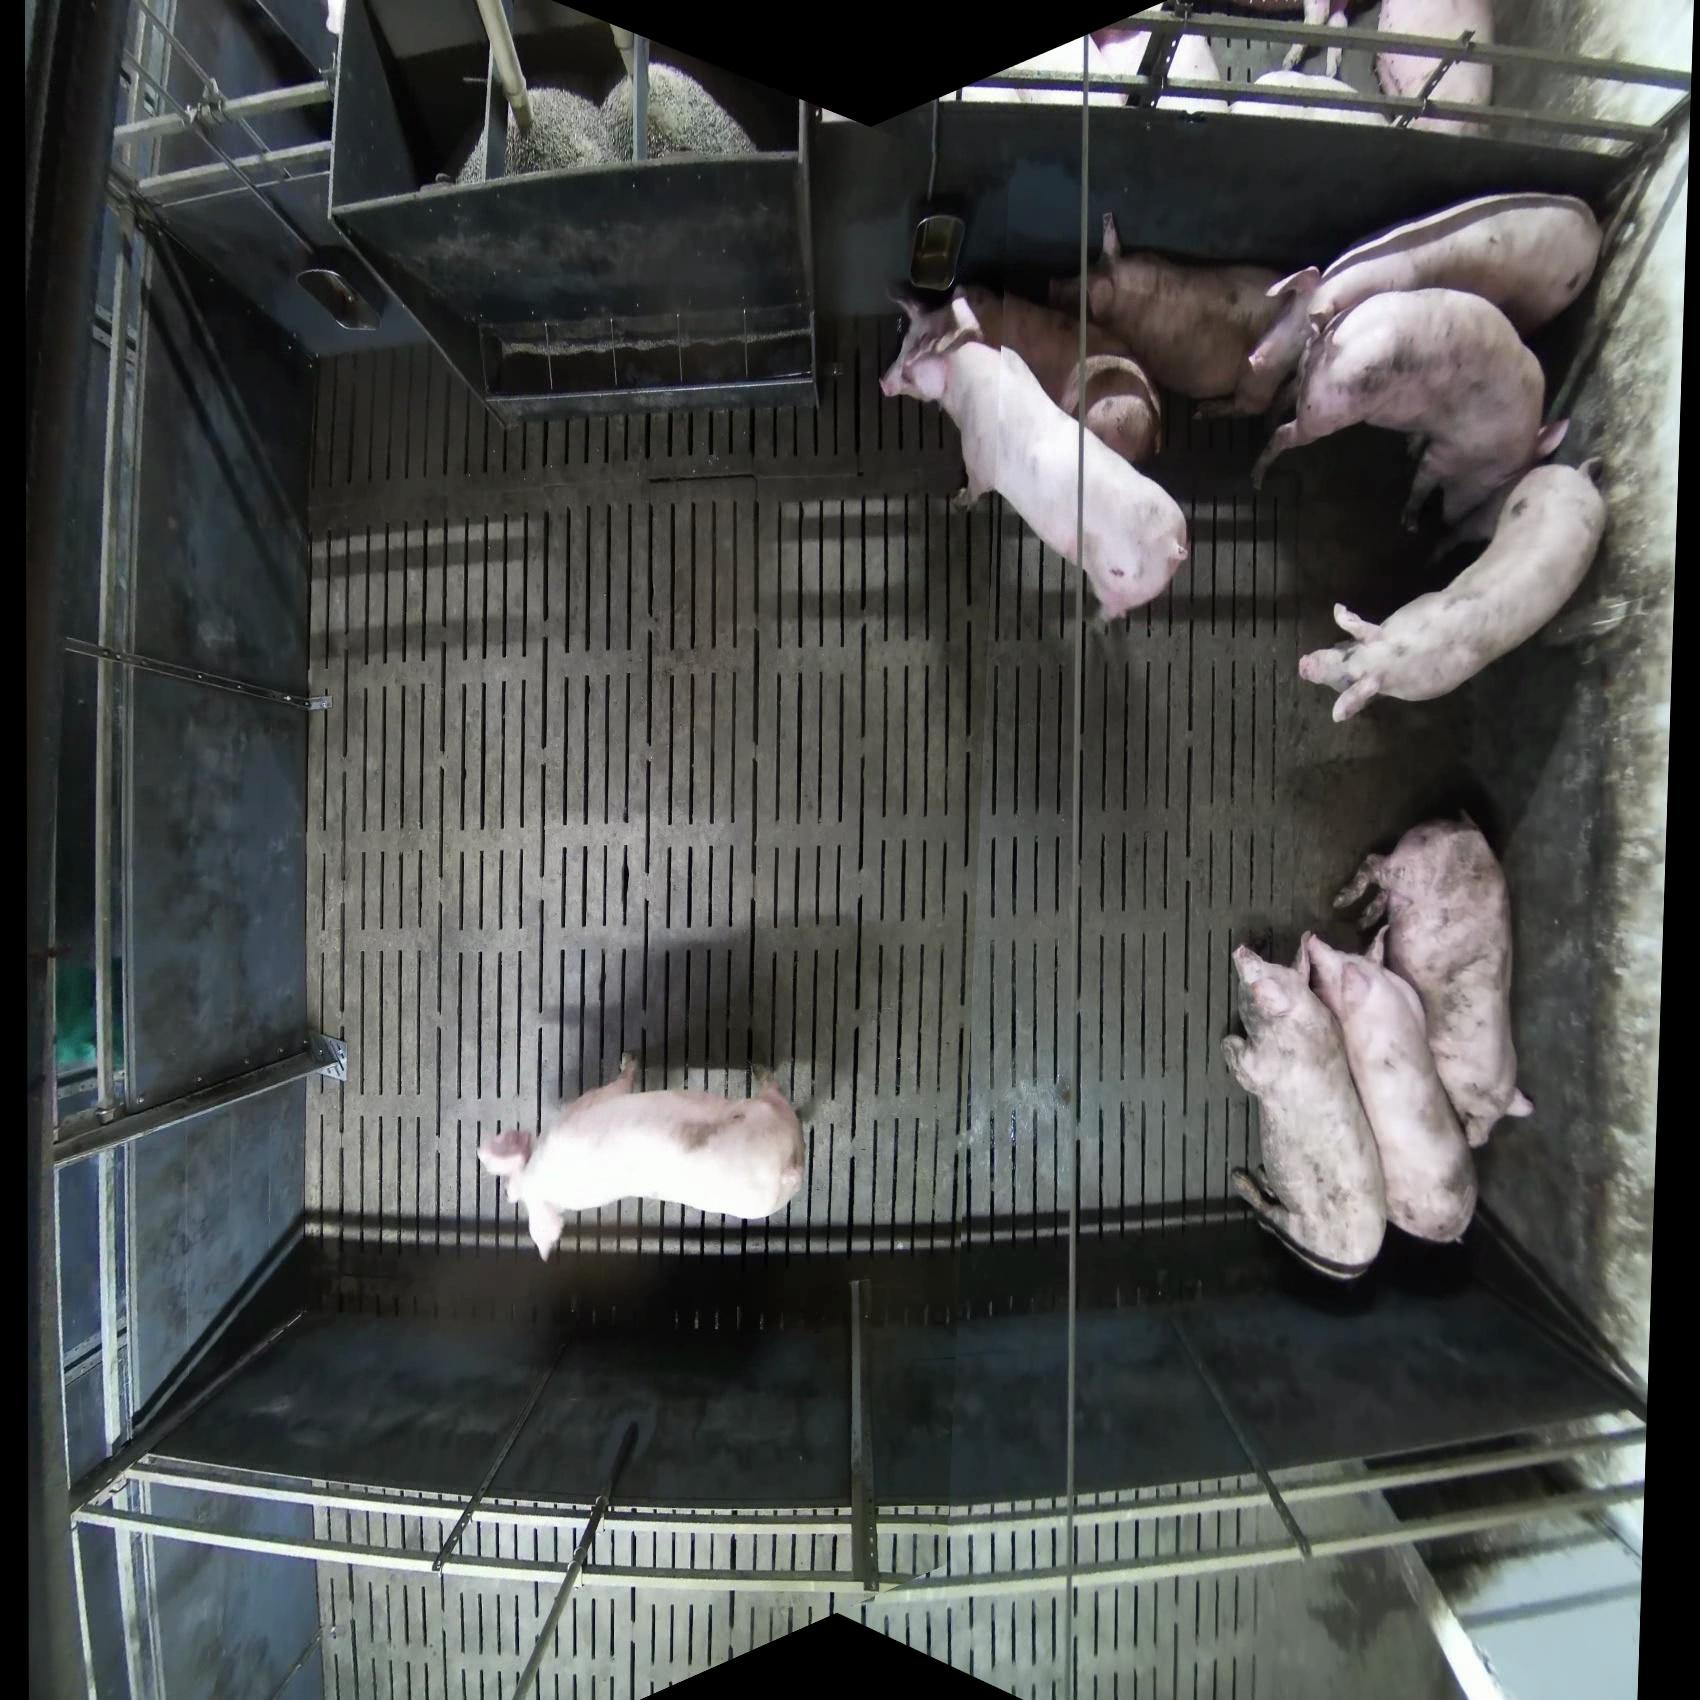pig: (878, 279, 1192, 624), (1297, 455, 1611, 725), (1249, 286, 1574, 539), (1242, 190, 1603, 411), (476, 1051, 806, 1266), (1331, 814, 1537, 1150), (1221, 939, 1389, 1281), (1298, 929, 1480, 1245), (1048, 212, 1308, 423), (954, 282, 1164, 470), (1247, 2, 1498, 137), (1373, 2, 1498, 137), (1088, 22, 1227, 117), (1230, 68, 1379, 125)
